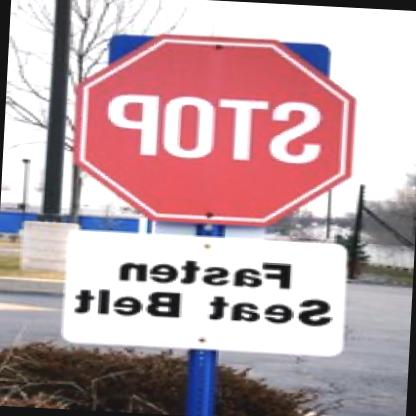stop: (71, 29, 362, 230)
